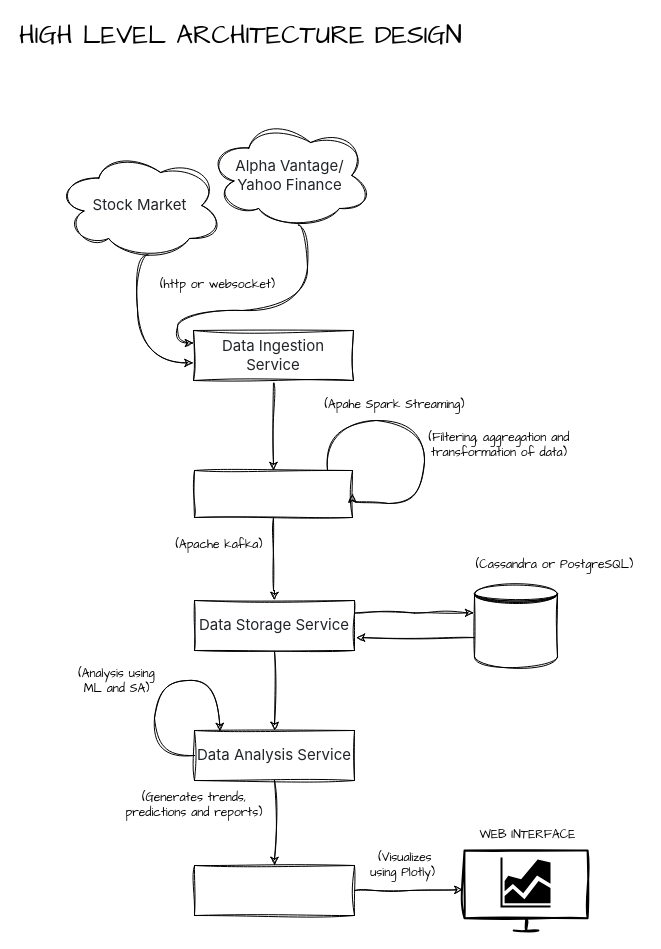
The diagram is 661 pixels wide and 949 high, and some of its shapes have lost their labels. Here are the shapes that lost their labels. From the top down, the box of each, then its label:
(194, 470, 352, 518): Real-Time Processing Service
(194, 864, 354, 916): Data Visualization Service
